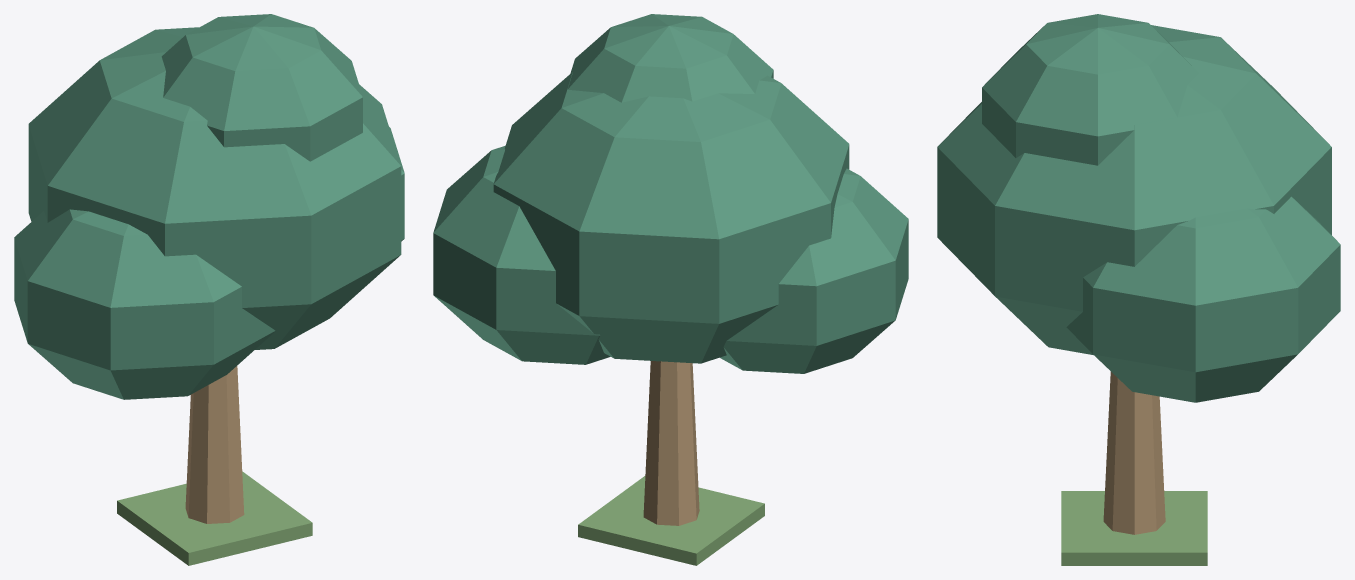
File: racecourse-and-parade-ring-paddock-tree-91f358c4.glb
The picture shows the model from 3 angles, left to right: view 1: azimuth 30°, elevation 25°; view 2: azimuth 150°, elevation 25°; view 3: azimuth 270°, elevation 25°; orthographic projection. The views are drawn at different scales.
Visible parts, largest first — view 1: paddock-tree; view 2: paddock-tree; view 3: paddock-tree.
Part boxes in pixels (left/top/right/bottom): paddock-tree: left=14, top=14, right=404, bottom=565; paddock-tree: left=433, top=14, right=908, bottom=565; paddock-tree: left=937, top=14, right=1340, bottom=565.
Size of the model in its own units: 4.03 by 4.68 by 3.31.
